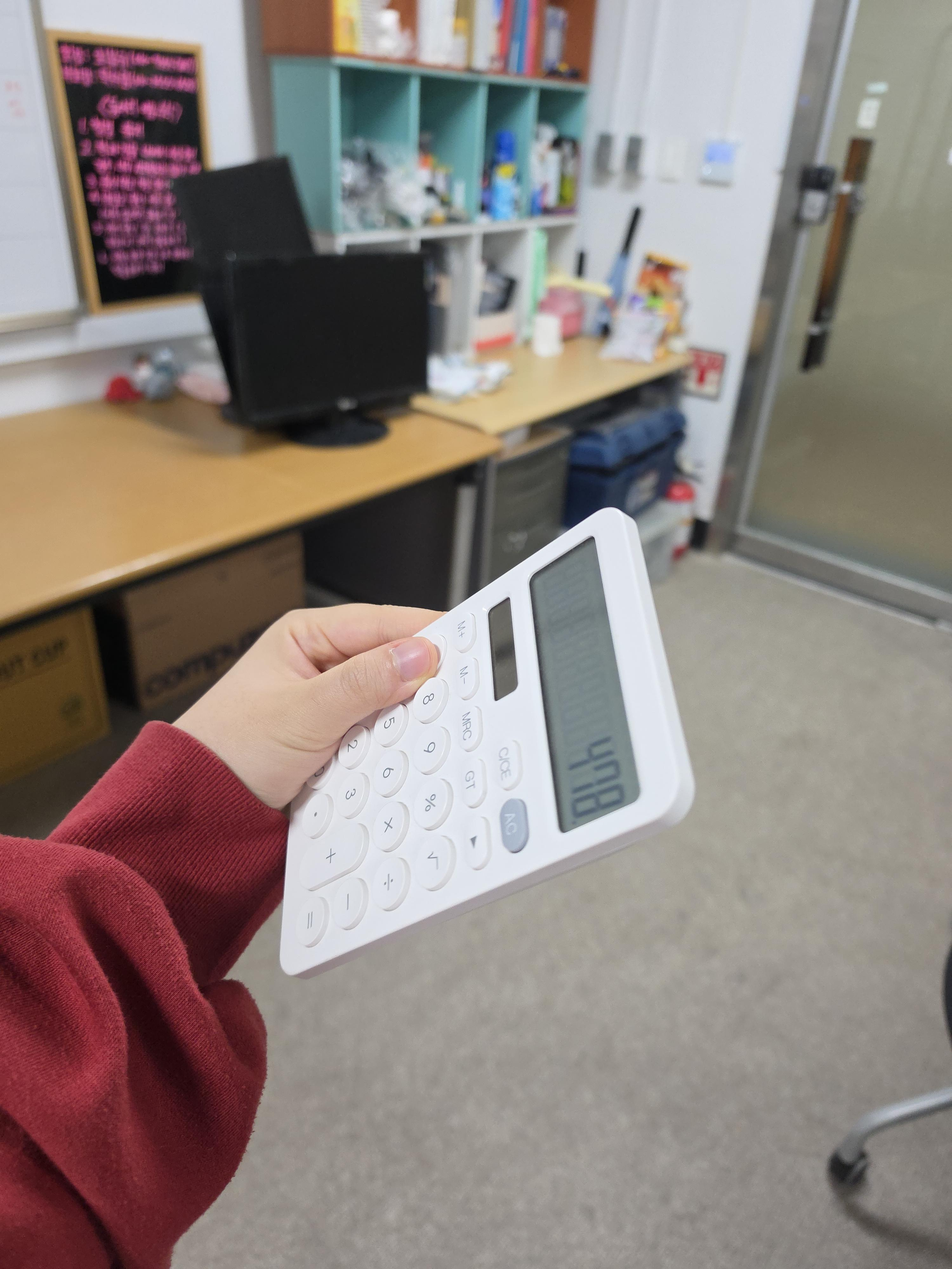calculator: (280, 507, 696, 979)
